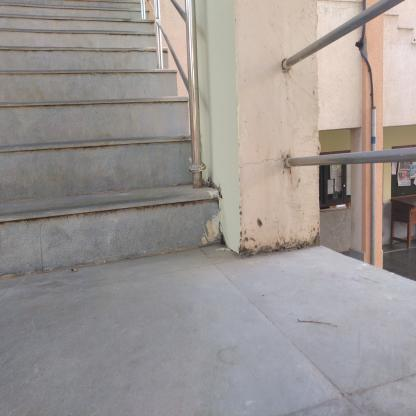stairs: (1, 26, 152, 283)
